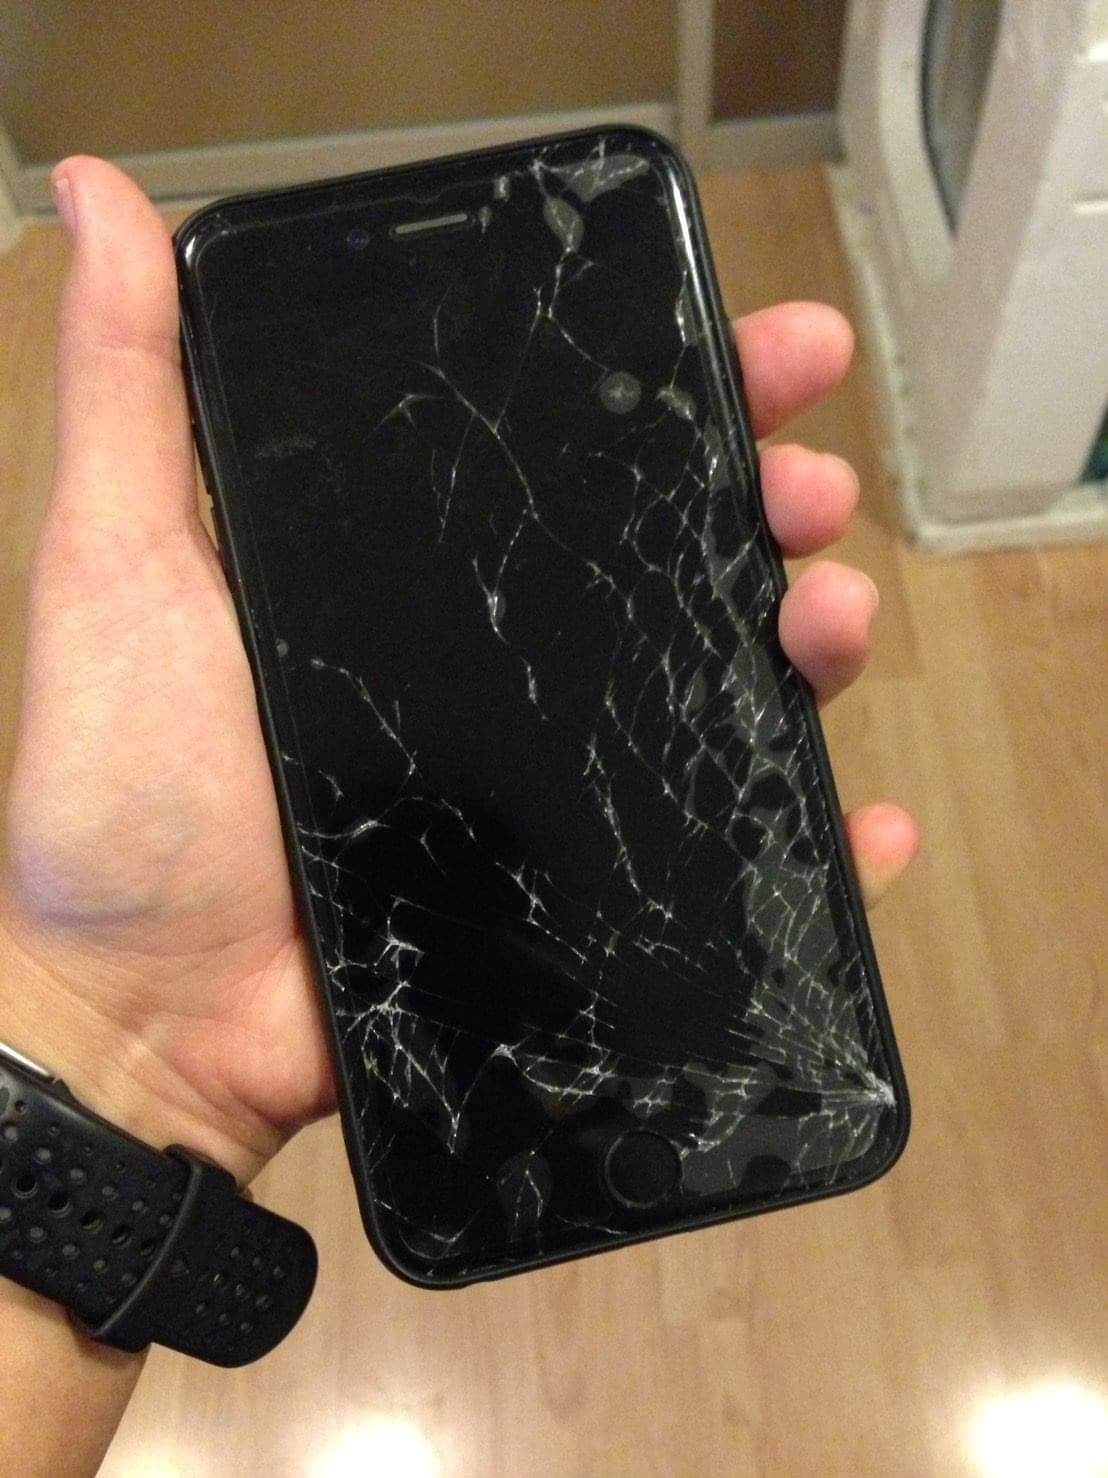Phone: (172, 118, 915, 1296)
